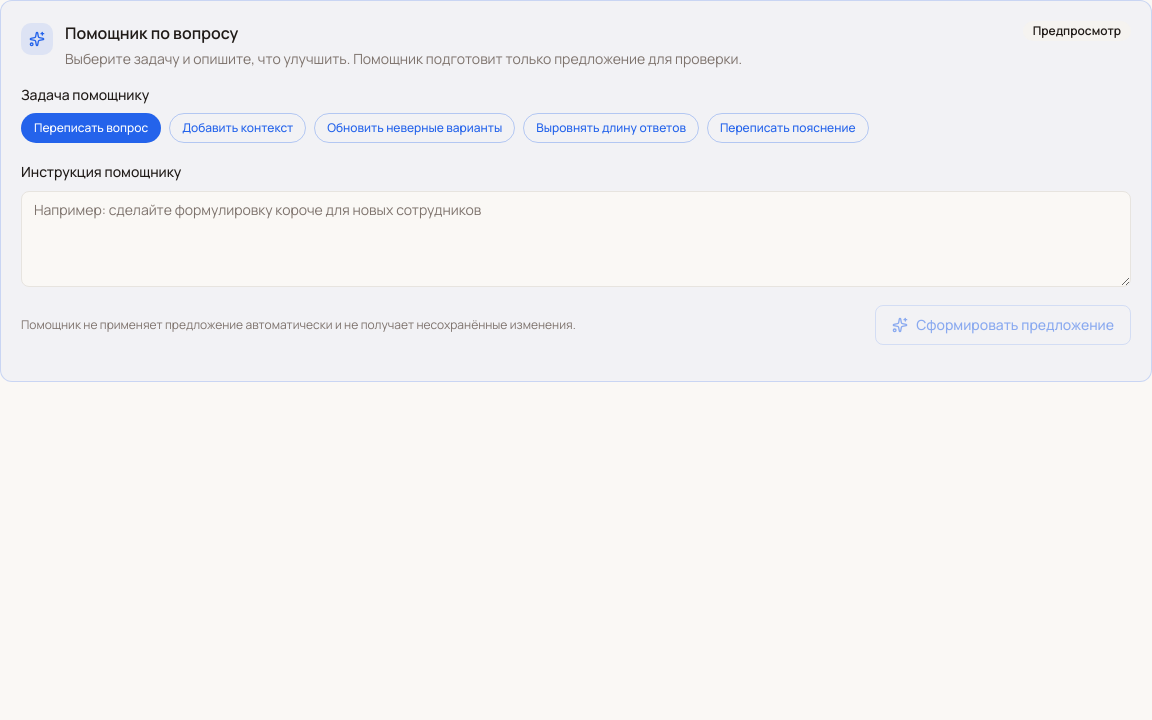
Test: QuestionAssistantPreview › uses explicit intent chips, preserves the single correct marker, and never renders IDs
This screenshot has width=1152, height=720.
Click the button "Добавить контекст".
click(238, 128)  # box [169,113,306,143]
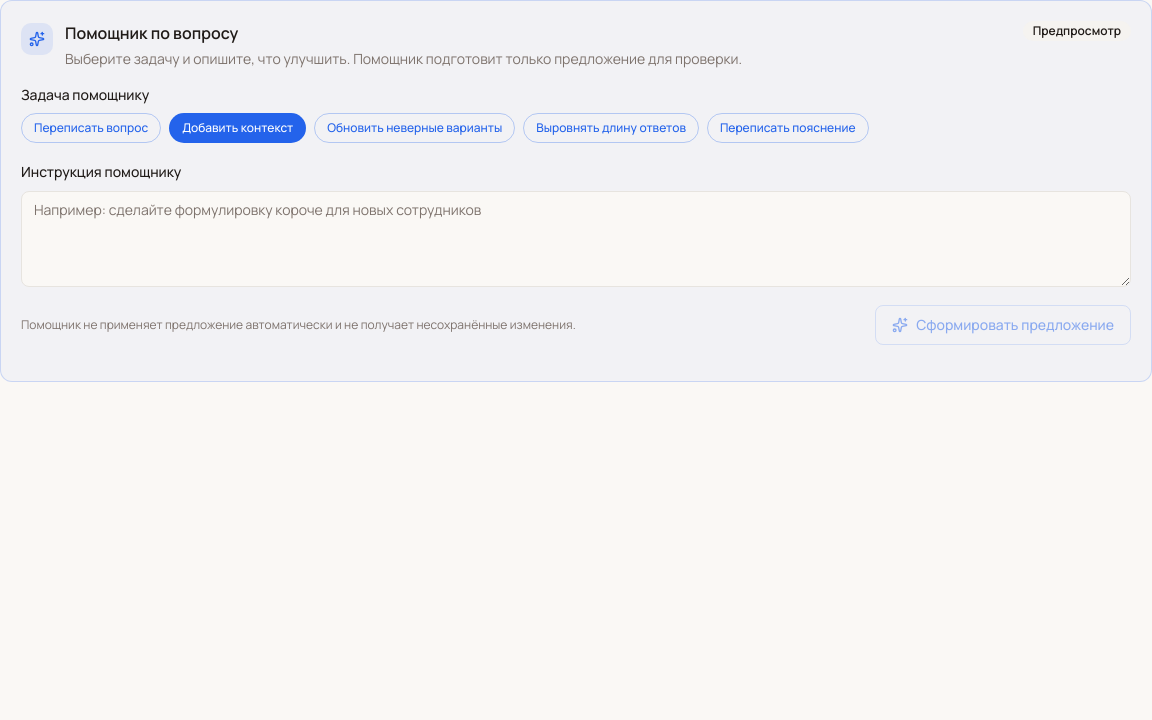
Type "Добавь контекст" into the text box labelled "Инструкция помощнику".
click(576, 239); type("Добавь контекст")  # box [21,191,1131,287]
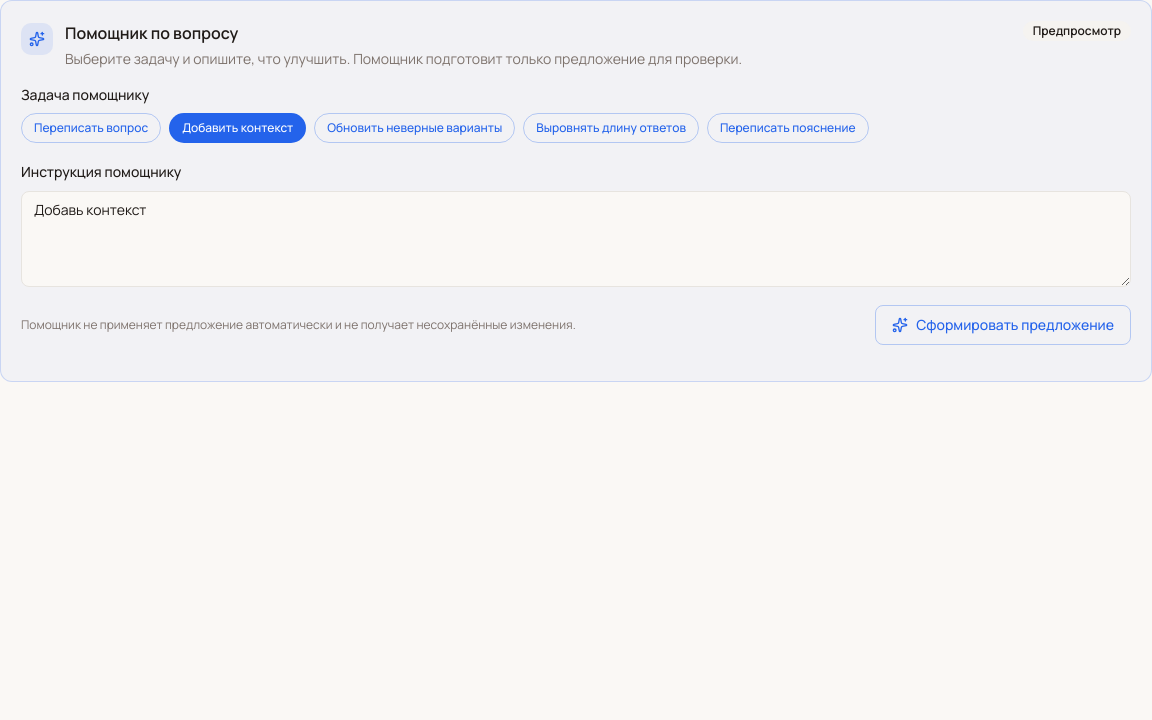
Click the button with aria-label "Сформировать предложение помощника".
click(1003, 325)  # box [875,305,1131,345]
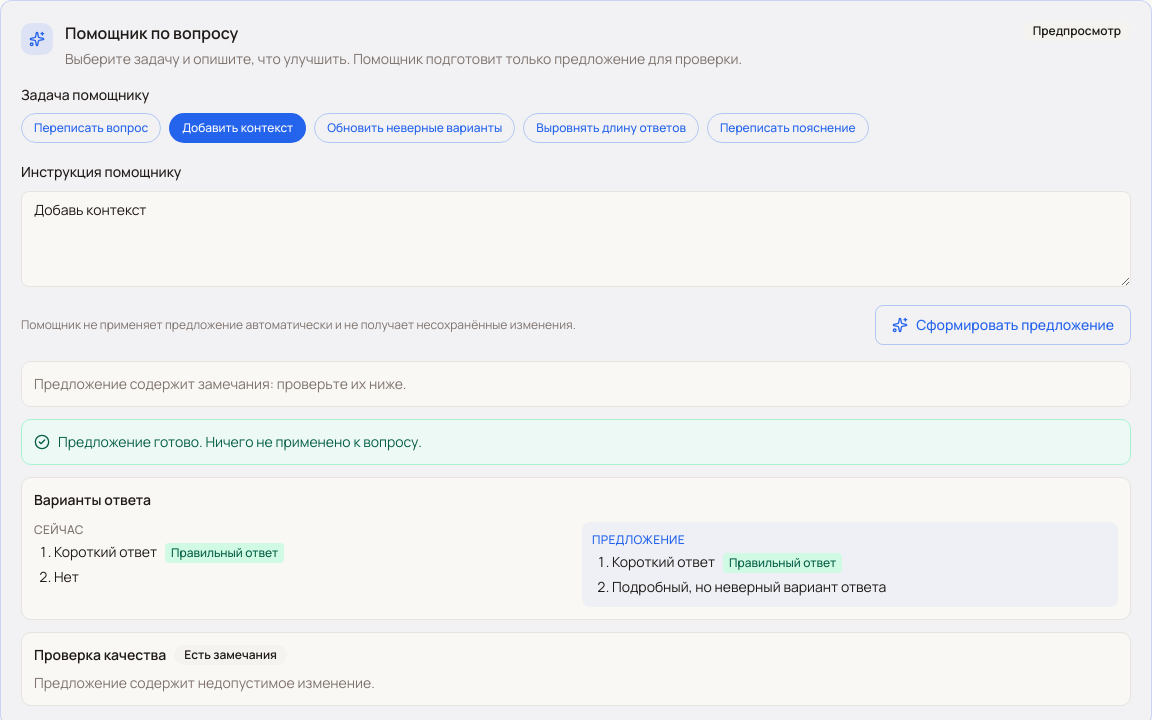
Now the text "Предложение готово. Ничего не применено к вопросу." is shown, box [58,432,422,452]
Now the text "Правильный ответ" is shown 2 times, box [165,543,284,563]; [723,553,842,573]
